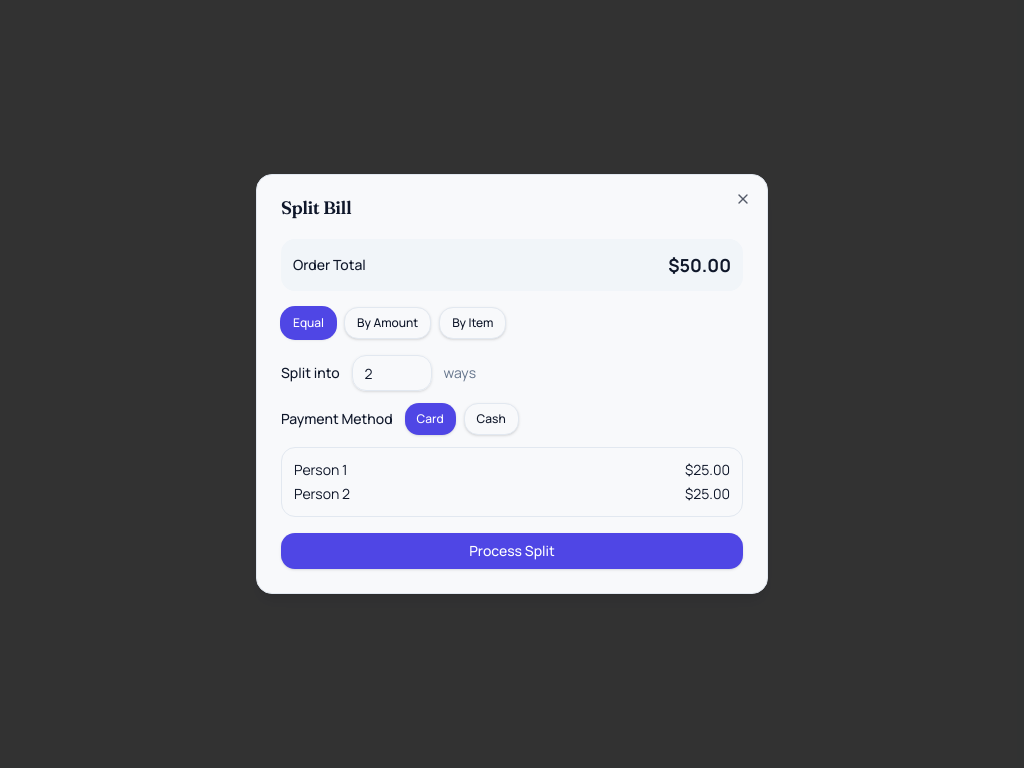
Test case: SplitBillDialog › adds a new split row in by_amount mode
The image size is (1024, 768).
Click the button "By Amount": point(388, 323) [344, 307, 431, 339]
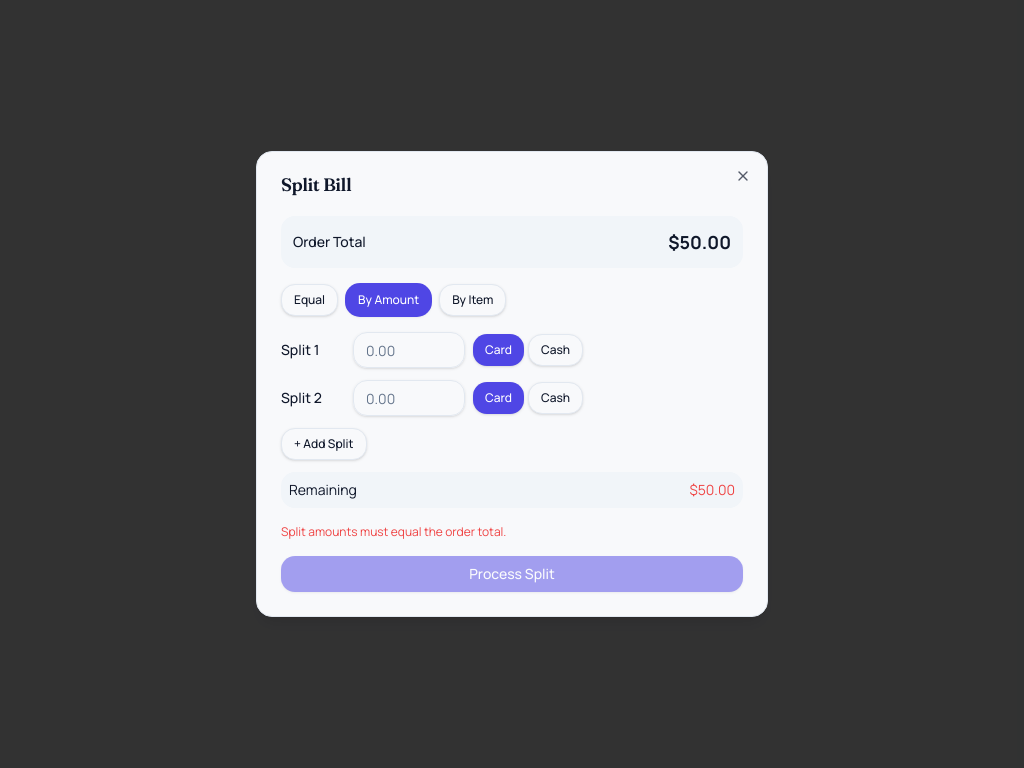
Click the button "+ Add Split": point(324, 444) [281, 428, 366, 460]
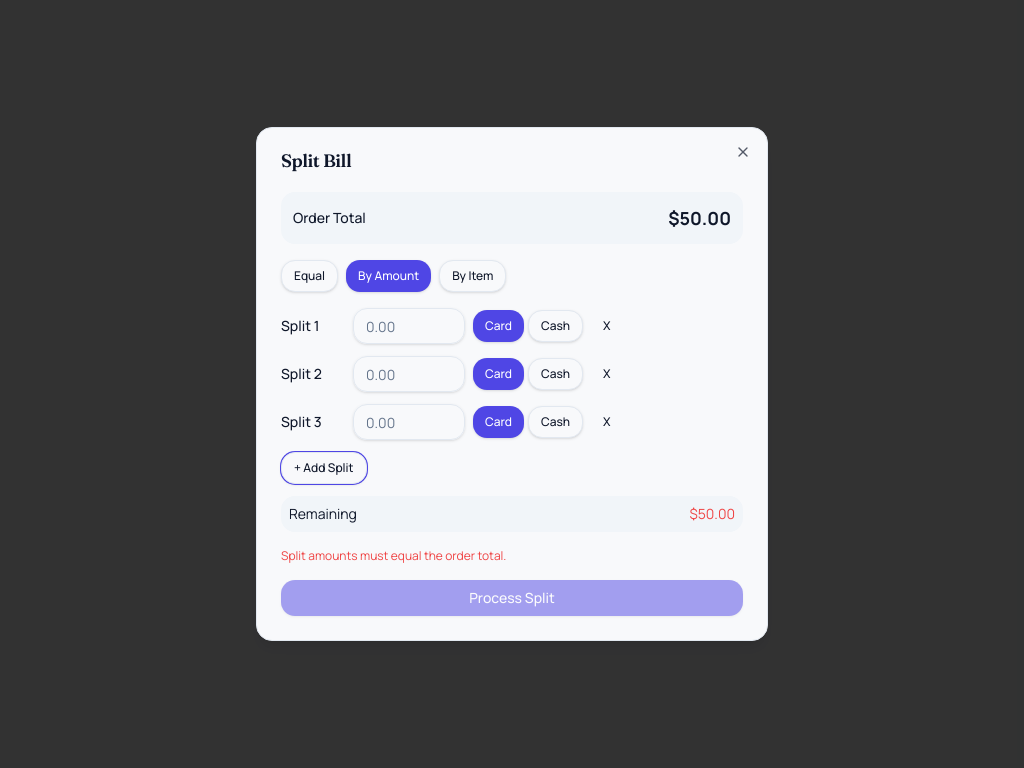
Now the text "Split 3" is shown, box [281, 412, 322, 431]
